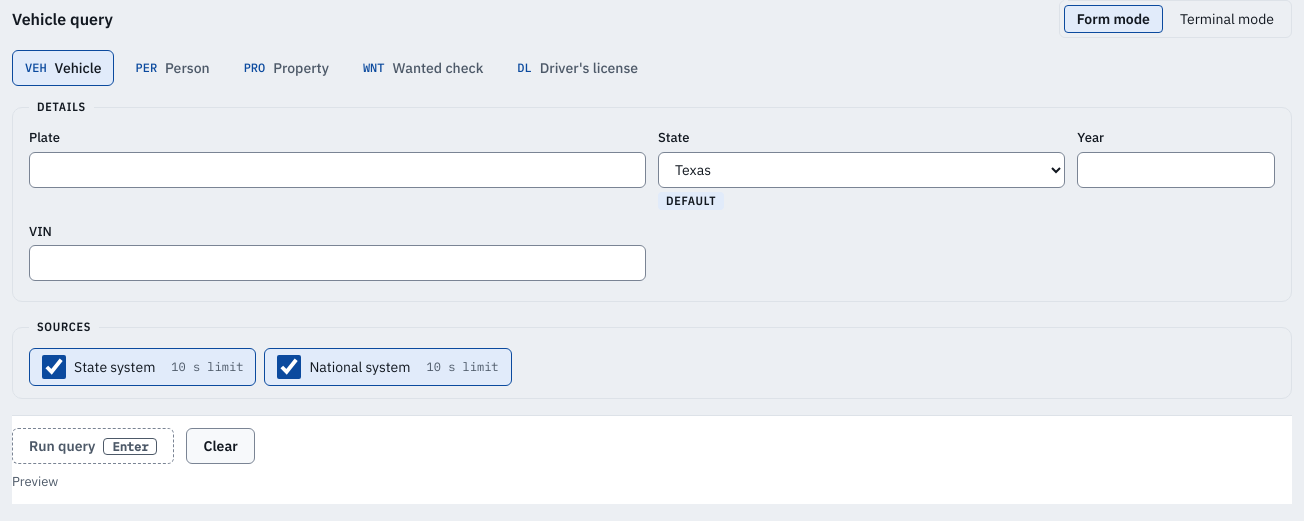
Test: BR-001 / ADR-0011 query panel view renders from an injected config › #382 W4 the terminal hint shows an example built from the site's first command
Click the button "Terminal mode": point(1227, 19) [1167,5,1287,33]
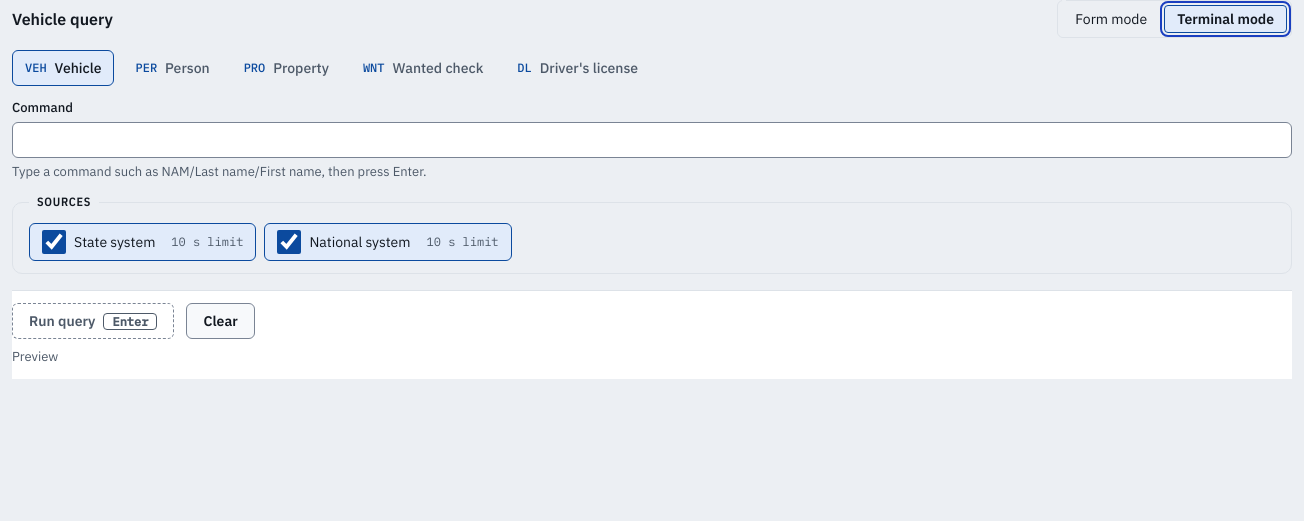
Expected: the text "Type a command such as NAM/Last name/First name, then press Enter." is shown, [12,162,426,180]
